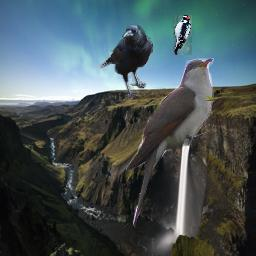Crow: (95, 21, 154, 101)
Cuckoo: (125, 58, 214, 228)
Woodpecker: (172, 15, 192, 55)
